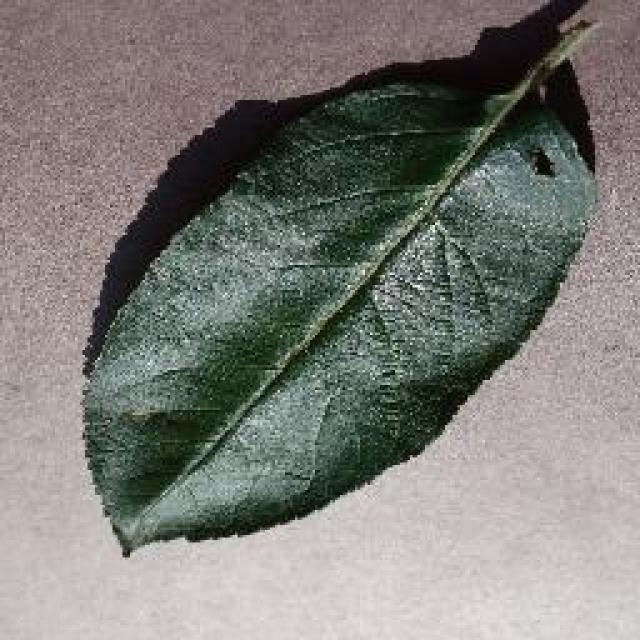apple healthy: (78, 2, 602, 558)
